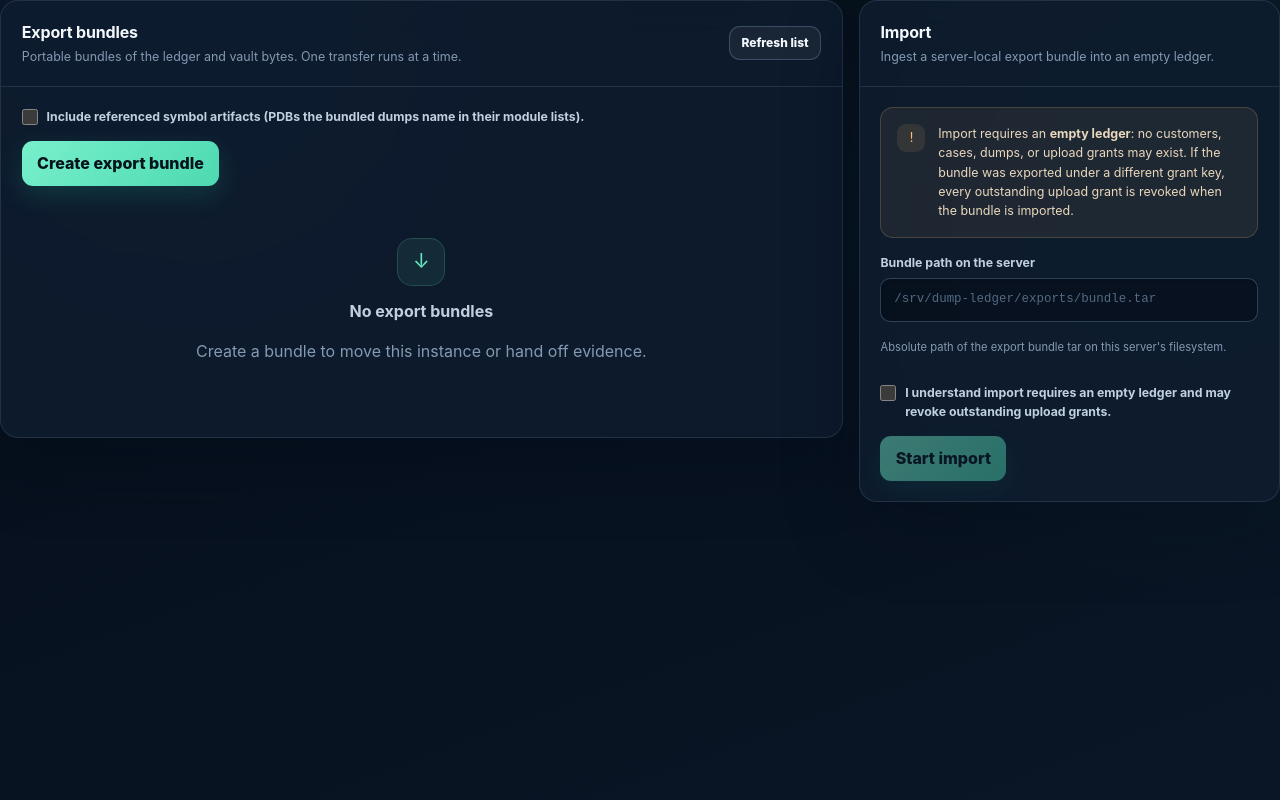
Test: Export / Import section › shows the inline notice when create meets another running transfer
Expected: the text "No export bundles" is shown, [350,301,493,321]
Click the button "Create export bundle" at (120, 164), box [22,141,219,186]
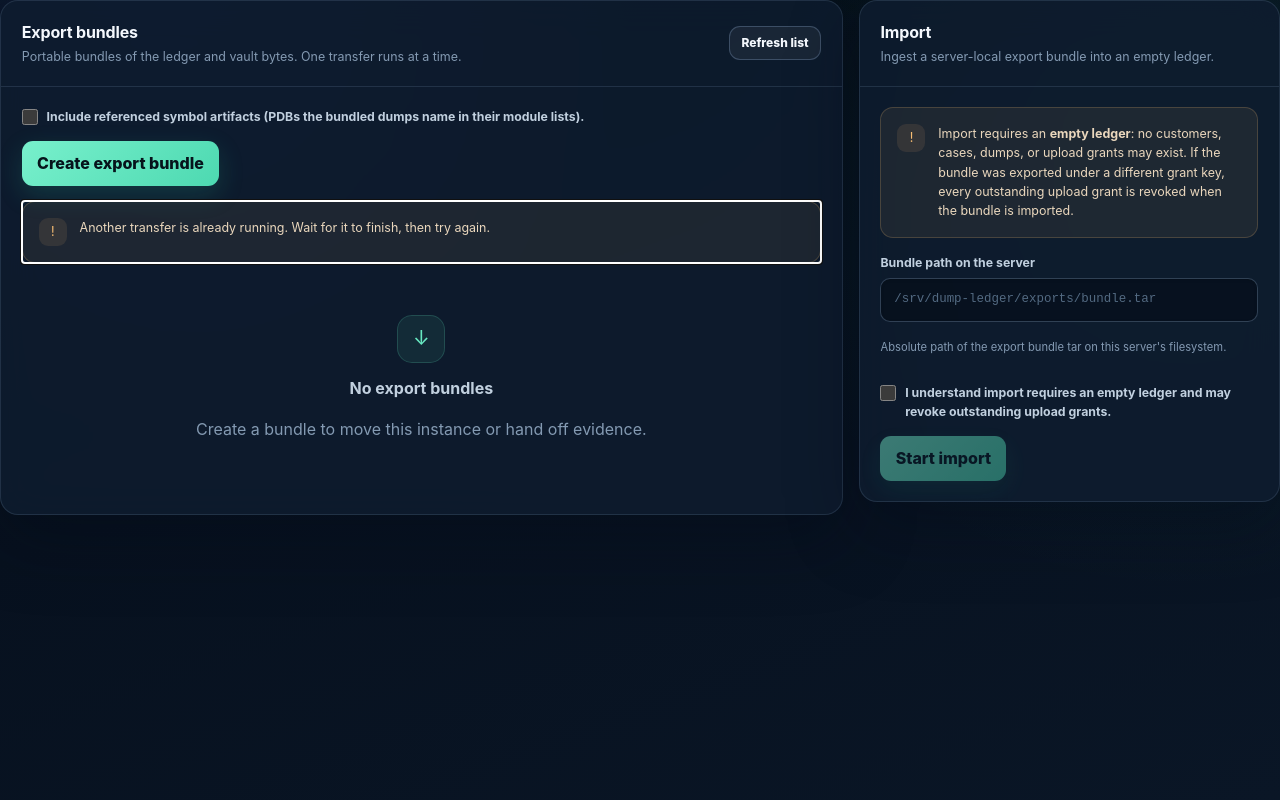
Expected: the message "! Another transfer is already running. Wait for it to finish, then try again." is shown, [22,201,821,263]
